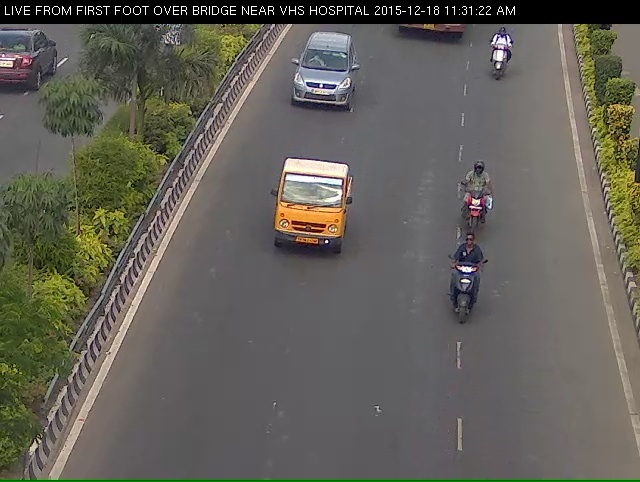Car: (263, 169, 366, 285), (284, 37, 370, 129)
Person: (434, 262, 486, 355), (449, 177, 498, 260), (486, 32, 517, 93)
